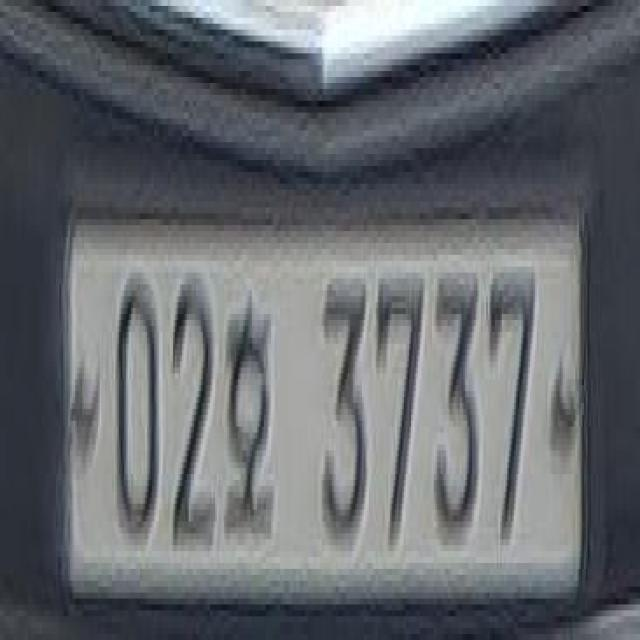illegal_plate: (69, 200, 596, 617)
